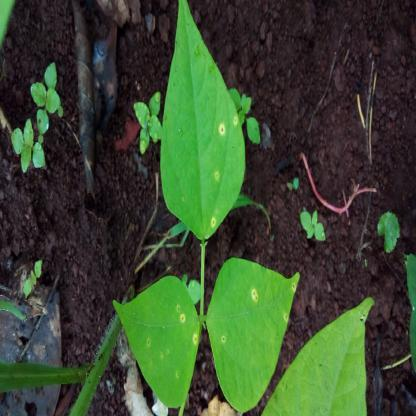Beans_Rust: (164, 2, 244, 226), (206, 254, 300, 409), (114, 280, 202, 407)
